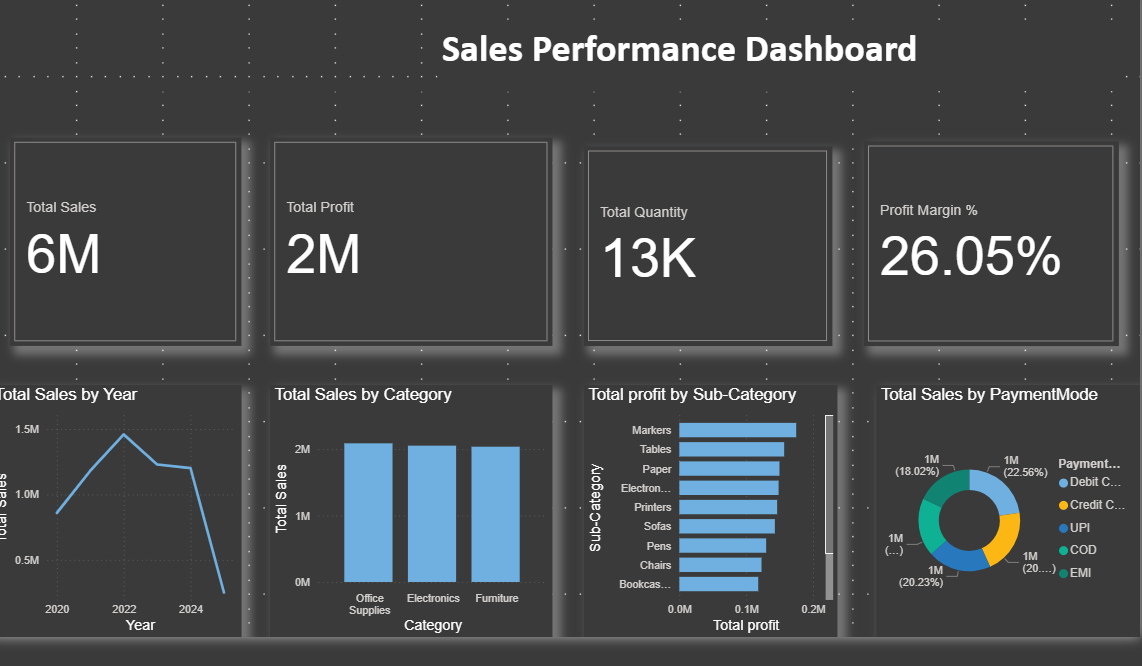

This screenshot's page, from the dashboard's own definition file:
{"tool":"powerbi","page":{"name":"Page 1","canvas":[1280,720],"ordinal":0},"visuals":[{"type":"cardVisual","fields":{"Data":["Sales Dataset.Total sales"]},"box":[0,0,279.7,279.7],"z":0},{"type":"cardVisual","fields":{"Data":["Sales Dataset.Total profit"]},"box":[315.8,0,314.4,281],"z":1000},{"type":"cardVisual","fields":{"Data":["Sales Dataset.Total Quality"]},"box":[640,0,279.7,281],"z":2000},{"type":"cardVisual","fields":{"Data":["Sales Dataset.profit margin %","select"]},"box":[968.3,0,279.7,281],"z":3000},{"type":"lineChart","fields":{"Category":["Sales Dataset.Year-Month.Variation.Date Hierarchy.Year","Sales Dataset.Year-Month.Variation.Date Hierarchy.Quarter","Sales Dataset.Year-Month.Variation.Date Hierarchy.Month","Sales Dataset.Year-Month.Variation.Date Hierarchy.Day"],"Y":["Sales Dataset.Total sales"]},"box":[0,360.3,279.7,281],"z":4000},{"type":"clusteredColumnChart","fields":{"Category":["Sales Dataset.Category"],"Y":["Sales Dataset.Total sales"]},"box":[315.8,360.3,314.4,281],"z":5000},{"type":"clusteredBarChart","fields":{"Category":["Sales Dataset.Sub-Category"],"Y":["Sales Dataset.Total profit"]},"box":[652.5,360.3,282.4,281],"z":6000},{"type":"donutChart","fields":{"Category":["Sales Dataset.PaymentMode"],"Y":["Sales Dataset.Total sales"]},"box":[968.3,360.3,293.6,281],"z":7000}]}

Visuals, with their boxes on the page's 1280x720 design canvas (x1, y1, x2, y2). These are canvas units, not pixel positions in the 1142x666 screenshot, which may show the page scaled, cropped or inside an application window:
cardVisual - Sales Dataset.Total sales: <region>0, 0, 280, 280</region>
cardVisual - Sales Dataset.Total profit: <region>316, 0, 630, 281</region>
cardVisual - Sales Dataset.Total Quality: <region>640, 0, 920, 281</region>
cardVisual - Sales Dataset.profit margin % x select: <region>968, 0, 1248, 281</region>
lineChart - Sales Dataset.Year-Month.Variation.Date Hierarchy.Year x Sales Dataset.Year-Month.Variation.Date Hierarchy.Quarter: <region>0, 360, 280, 641</region>
clusteredColumnChart - Sales Dataset.Category x Sales Dataset.Total sales: <region>316, 360, 630, 641</region>
clusteredBarChart - Sales Dataset.Sub-Category x Sales Dataset.Total profit: <region>652, 360, 935, 641</region>
donutChart - Sales Dataset.PaymentMode x Sales Dataset.Total sales: <region>968, 360, 1262, 641</region>
